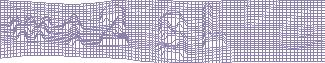2: (97, 4, 132, 47)
L: (200, 3, 228, 50)
S: (153, 10, 190, 60)
t: (61, 13, 88, 50)
w: (5, 13, 53, 42)
